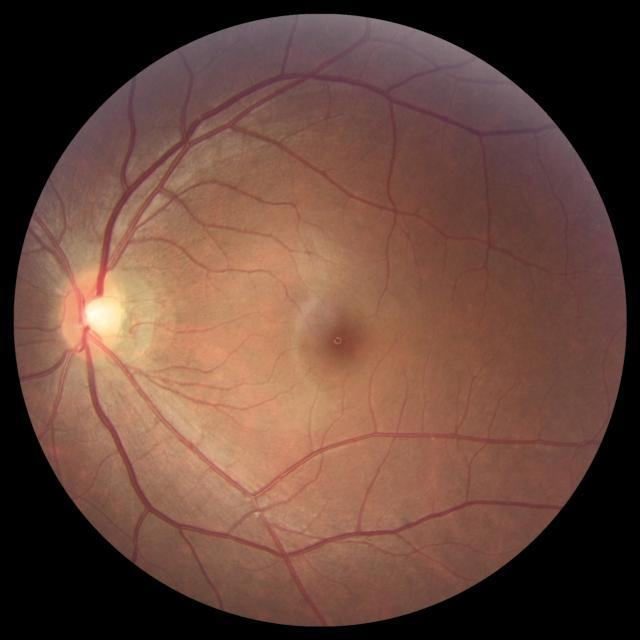OC: (81, 297, 118, 334)
OD: (58, 267, 125, 360)
